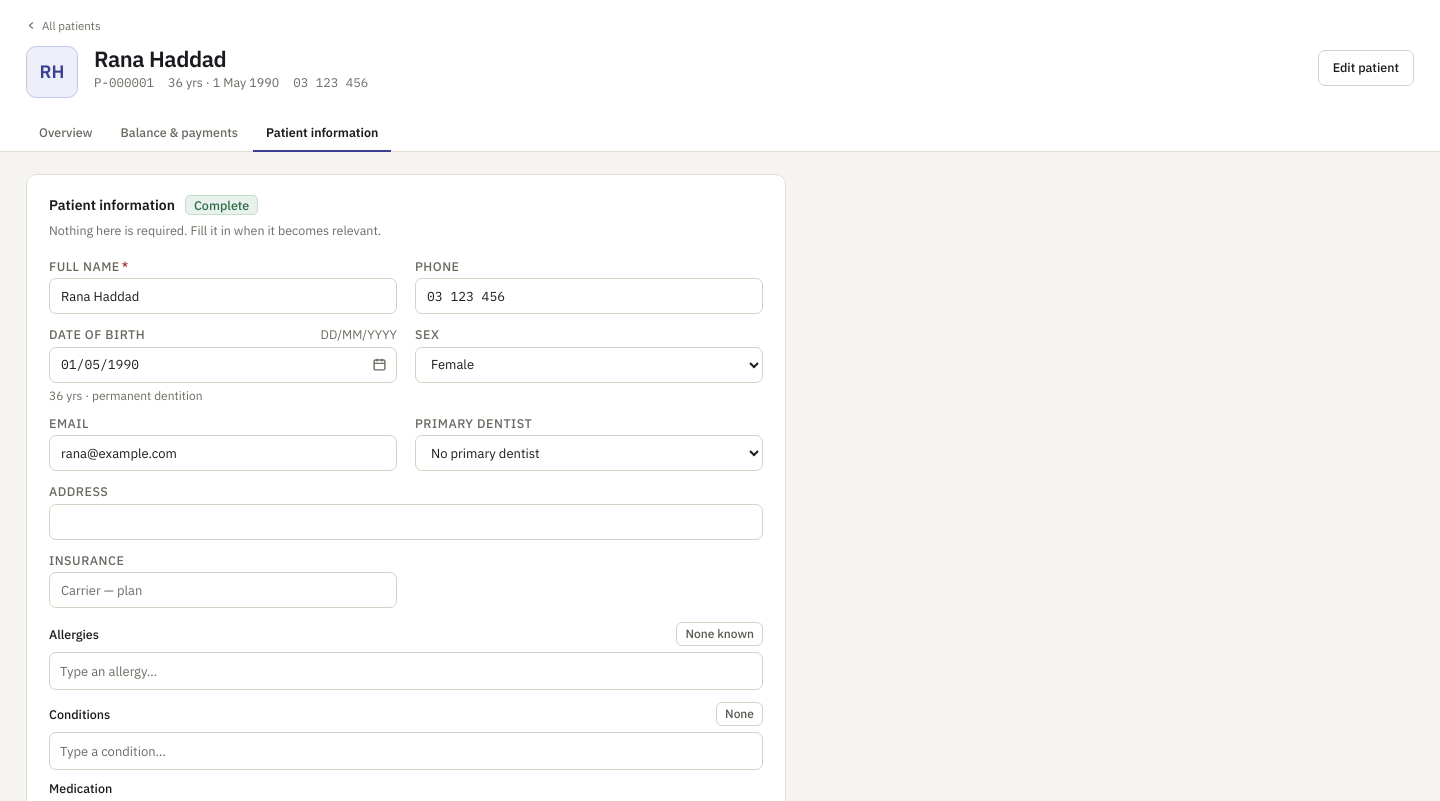
InformationTab › asks before switching tabs while there are unsaved changes
Expected: the text "Nothing here is required. Fill it in when it becomes relevant." is shown, [49, 222, 381, 238]
In the field labelled "Address": [406, 522] box [49, 504, 763, 540], type "12 Hamra St"
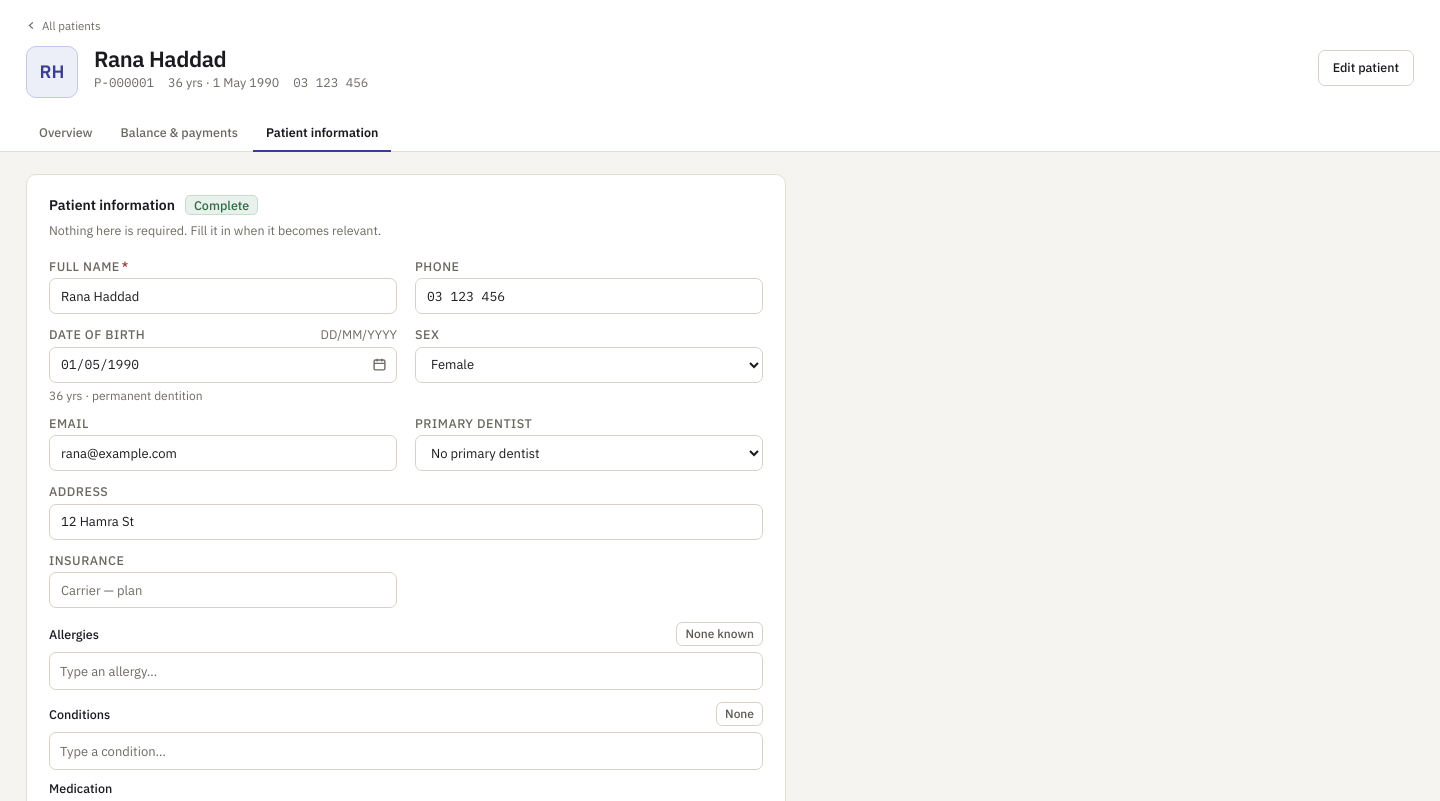
Click the tab "Overview": [66, 134] box [26, 116, 106, 152]
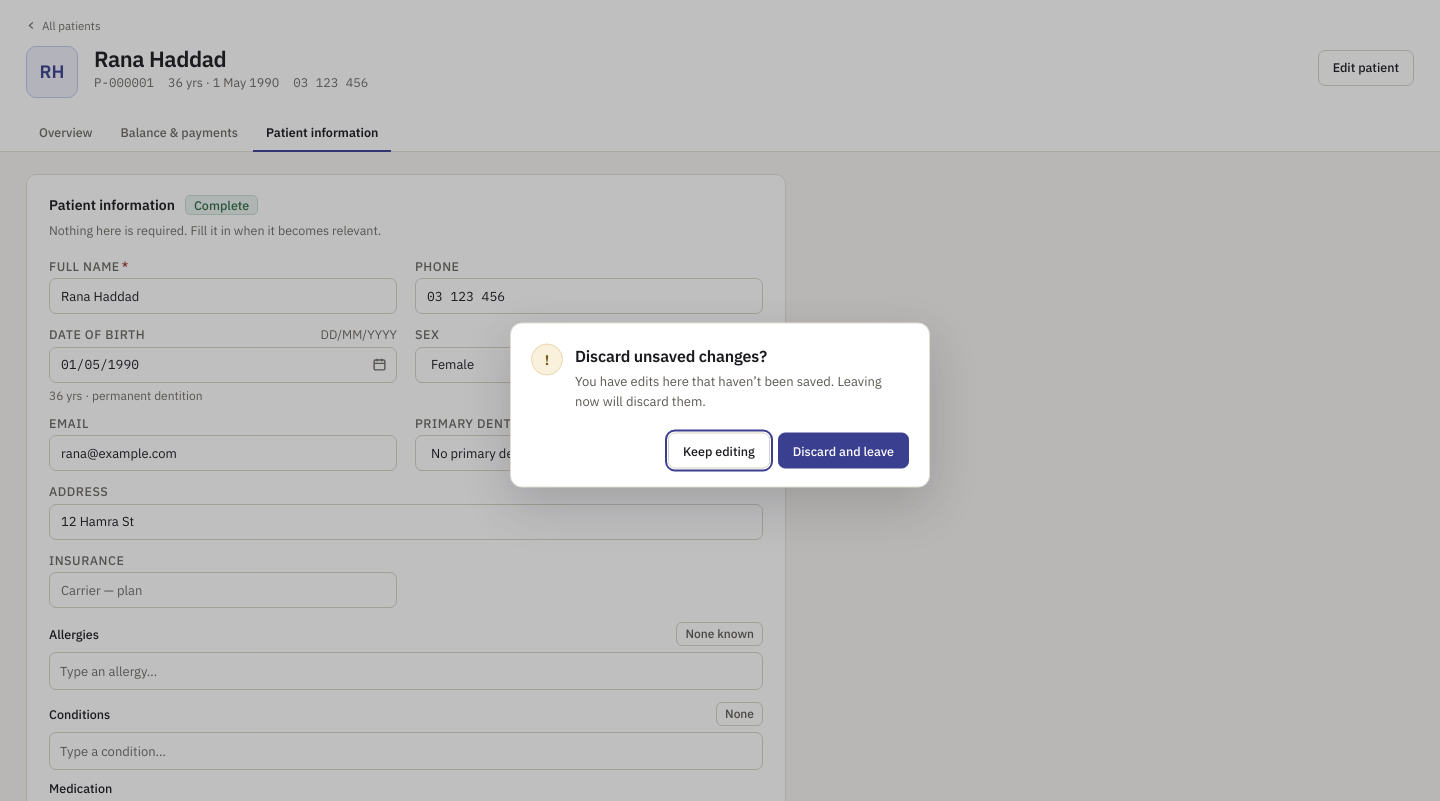
Click the button "Keep editing": [719, 450] box [668, 432, 770, 468]
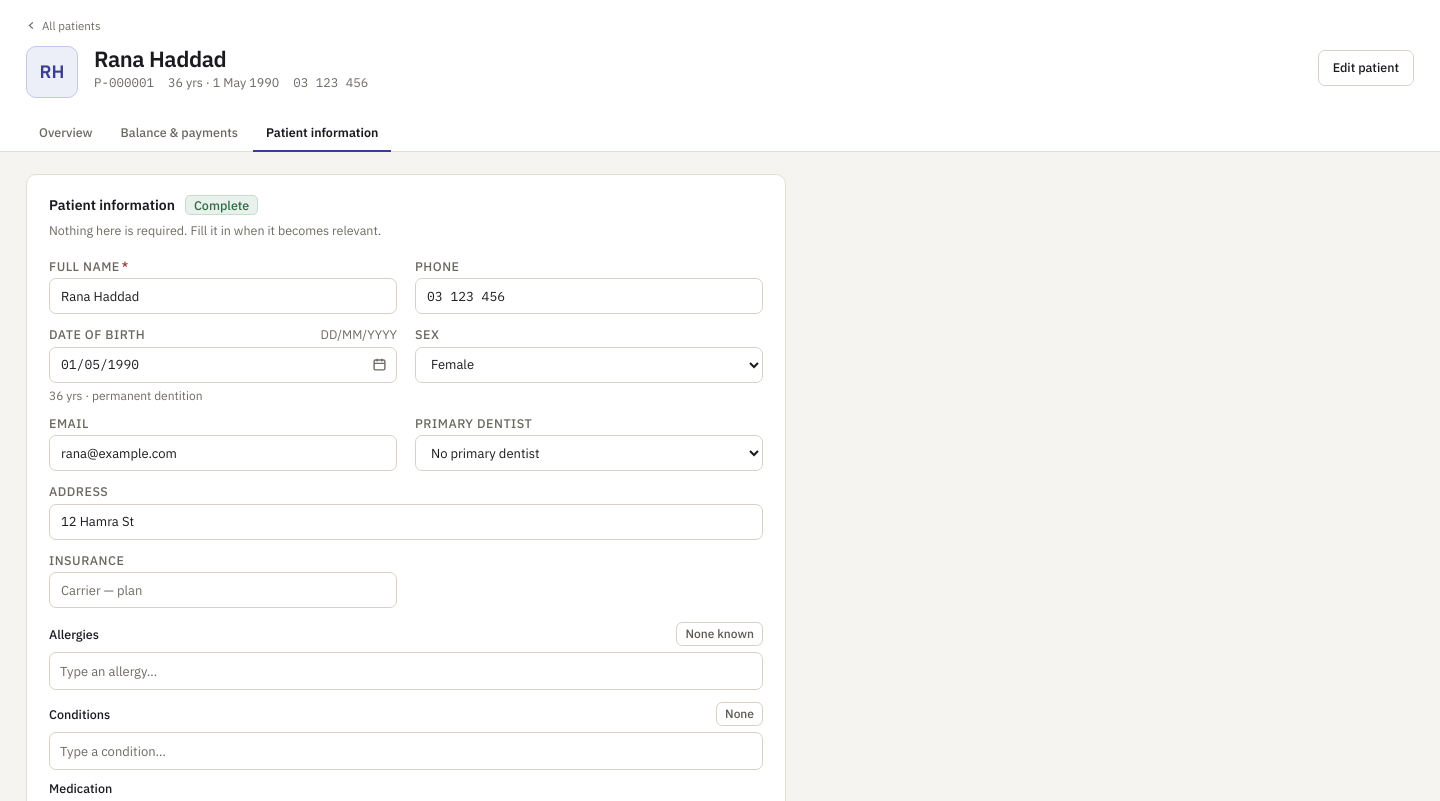
Expected: the dialog is gone
Click the tab "Overview": [66, 134] box [26, 116, 106, 152]
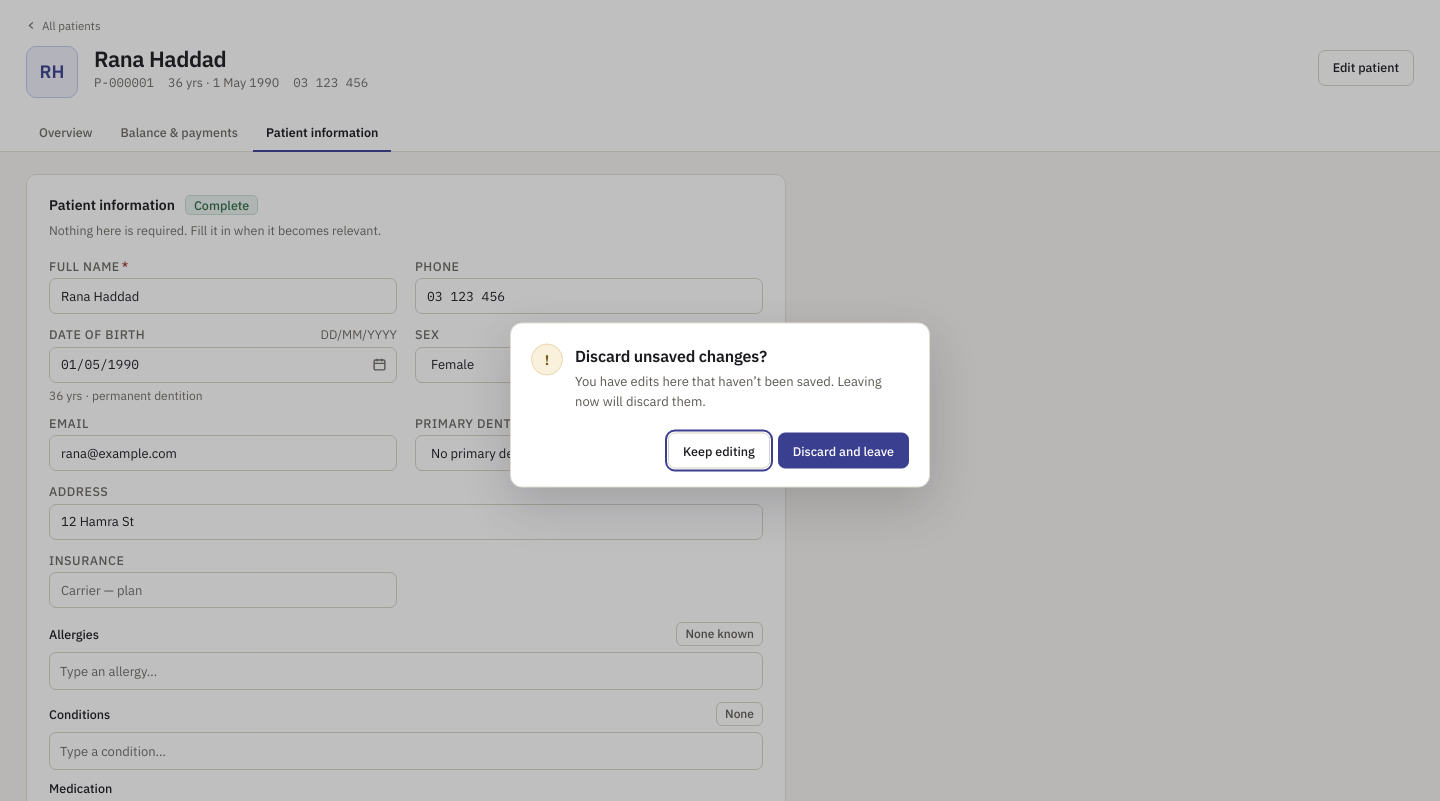
Click the button "Discard and leave": [843, 450] box [778, 432, 909, 468]
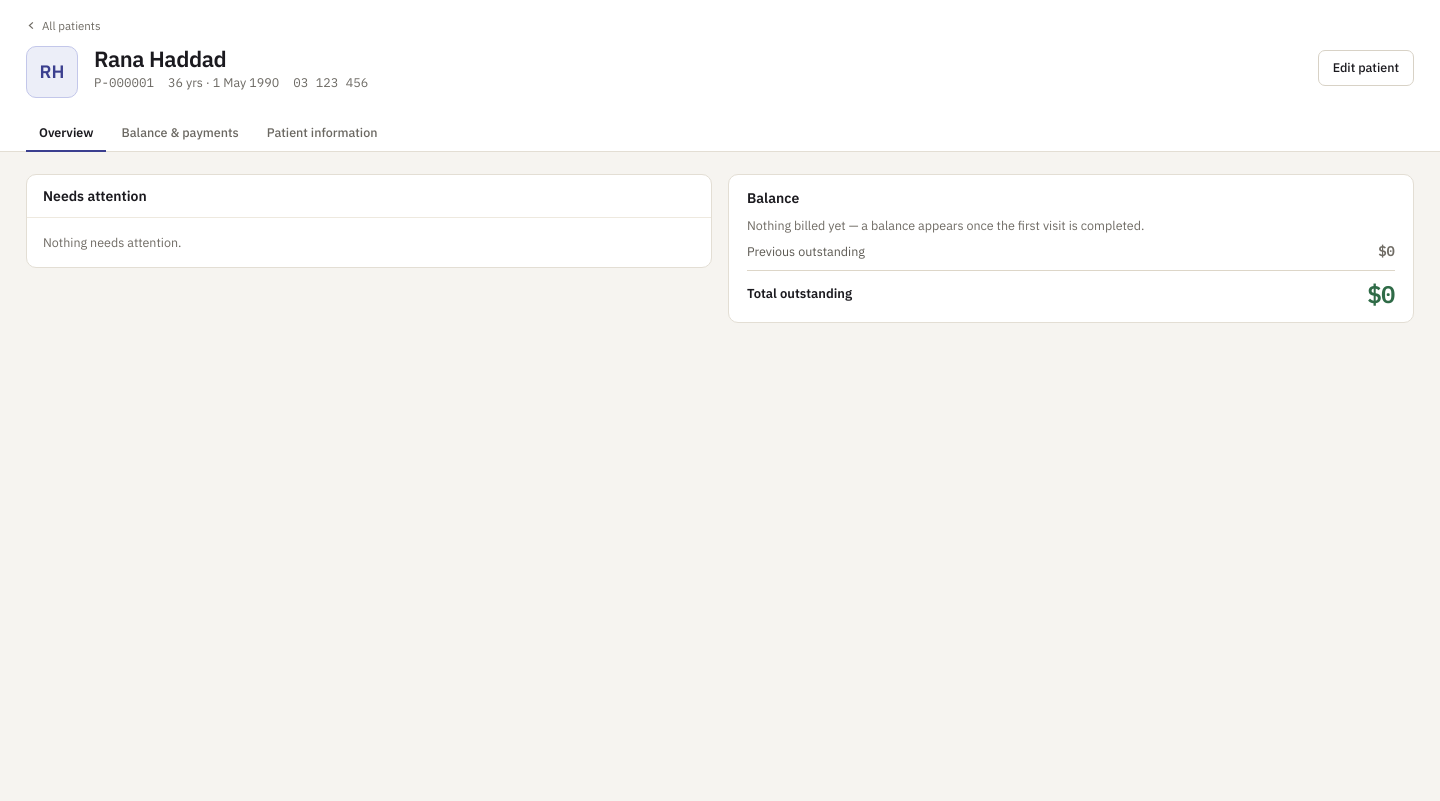
Expected: the element "Balance" is shown, [728, 174, 1414, 323]
